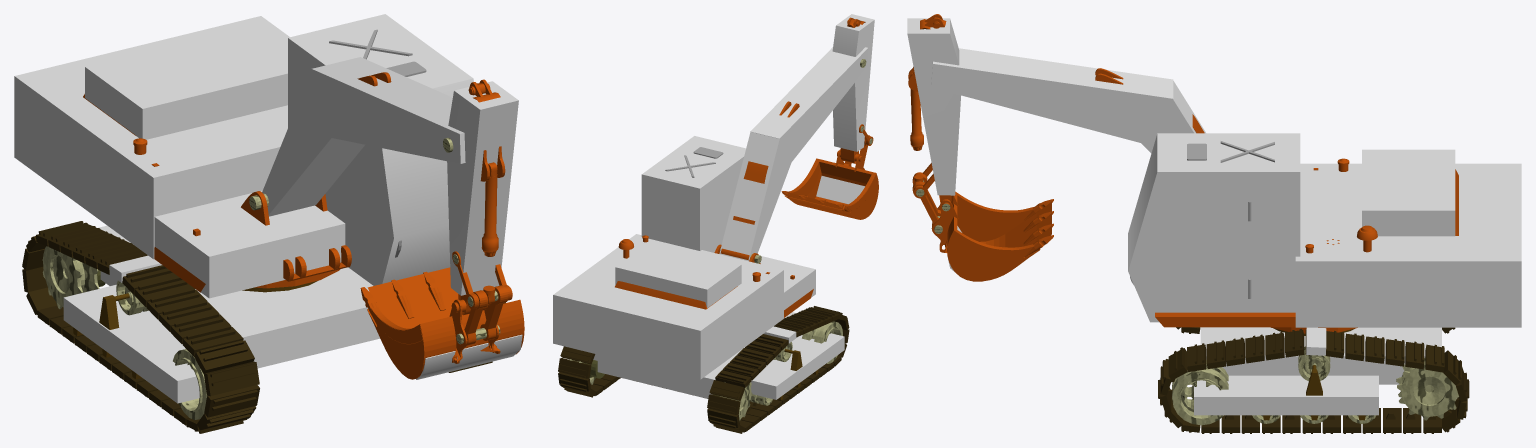
The model's file is excavator.fbx.
3 renders of one model, left to right at view 1: azimuth 30°, elevation 25°; view 2: azimuth 150°, elevation 25°; view 3: azimuth 270°, elevation 25°, orthographic. The views are drawn at different scales.
Visible parts, largest first — view 1: hidden_Box001, hidden_convexhull, hidden_convexhull001 (×2), hidden_Box002, hidden_Box003, hidden_box00, hidden_convexhull002, hidden_box002, bucket, EngineBody, arm02, rightGear (+27 smaller); view 2: hidden_Box001, hidden_convexhull, hidden_convexhull001 (×2), hidden_convexhull002, hidden_Box002, hidden_box002, hidden_box00, EngineBody, hidden_Box003, bucket, hidden_convexhull_ b06, Boom (+19 smaller); view 3: hidden_Box001, hidden_convexhull, hidden_convexhull002, hidden_Box002, hidden_convexhull001 (×2), hidden_box001, hidden_box00, EngineBody, hidden_convexhull_ b05, bucket, leftGear, hidden_convexhull_ b00 (+5 smaller).
Boxes of the visible parts, left/top/right/bottom form: hidden_Box001: left=14, top=16, right=289, bottom=259; hidden_convexhull: left=288, top=14, right=473, bottom=285; hidden_convexhull001 (×2): left=262, top=70, right=518, bottom=295; hidden_Box002: left=85, top=29, right=287, bottom=139; hidden_Box003: left=154, top=190, right=345, bottom=298; hidden_box00: left=98, top=225, right=379, bottom=368; hidden_convexhull002: left=311, top=57, right=465, bottom=163; hidden_box002: left=63, top=284, right=199, bottom=403; bucket: left=360, top=271, right=521, bottom=363; EngineBody: left=83, top=94, right=351, bottom=292; arm02: left=443, top=79, right=505, bottom=315; rightGear: left=42, top=246, right=99, bottom=309; hidden_Box001: left=553, top=234, right=783, bottom=379; hidden_convexhull: left=641, top=136, right=745, bottom=252; hidden_convexhull001 (×2): left=719, top=14, right=874, bottom=261; hidden_convexhull002: left=750, top=47, right=868, bottom=162; hidden_Box002: left=615, top=242, right=741, bottom=307; hidden_box002: left=751, top=333, right=844, bottom=399; hidden_box00: left=593, top=312, right=797, bottom=398; EngineBody: left=615, top=235, right=813, bottom=317; hidden_Box003: left=760, top=256, right=815, bottom=309; bucket: left=781, top=149, right=878, bottom=212; hidden_convexhull_ b06: left=816, top=176, right=864, bottom=204; Boom: left=720, top=101, right=799, bottom=260; hidden_Box001: left=1295, top=163, right=1521, bottom=327; hidden_convexhull: left=1128, top=133, right=1300, bottom=322; hidden_convexhull002: left=931, top=48, right=1173, bottom=143; hidden_Box002: left=1362, top=149, right=1455, bottom=236; hidden_convexhull001 (×2): left=907, top=18, right=1205, bottom=195; hidden_box001: left=1194, top=375, right=1378, bottom=415; hidden_box00: left=1200, top=327, right=1441, bottom=384; EngineBody: left=1155, top=158, right=1458, bottom=333; hidden_convexhull_ b05: left=947, top=229, right=1040, bottom=281; bucket: left=931, top=194, right=1053, bottom=257; leftGear: left=1396, top=358, right=1458, bottom=420; hidden_convexhull_ b00: left=955, top=191, right=1033, bottom=241.
Bounding box in the file's own units: 495 × 998 × 632.
7 materials, 1 textured.
